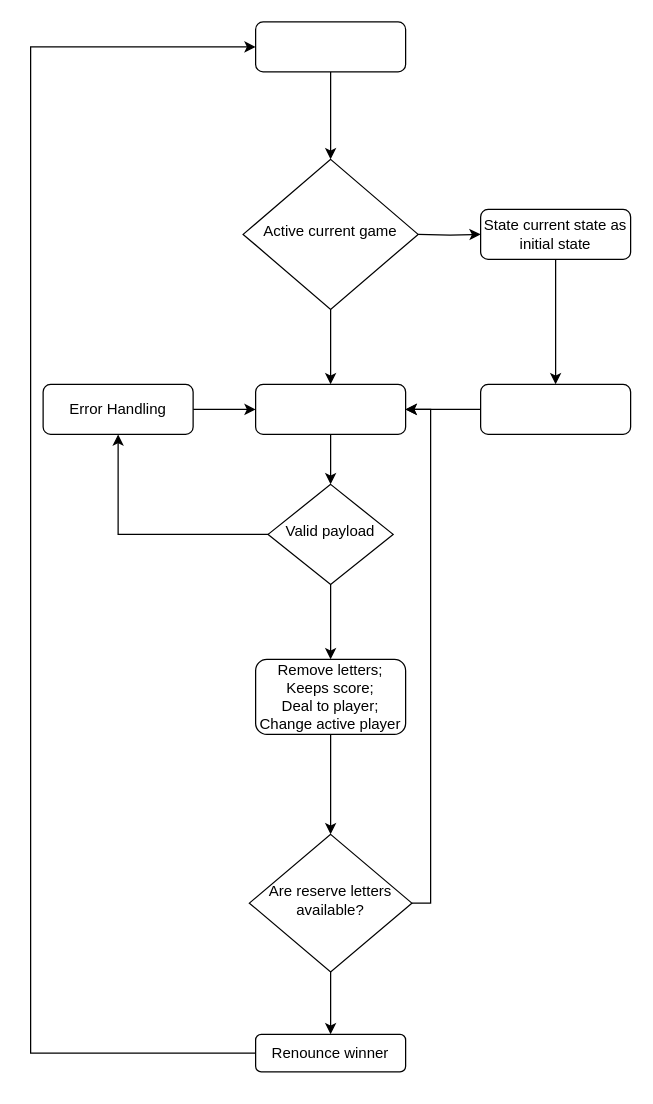
This 653x1104 diagram has some shape labels left out. Each missing label, with the box of its shape:
Deal 7 letters to each player: (479, 383, 631, 434)
Initialize: (254, 21, 406, 72)
Player plays: (254, 383, 406, 434)
